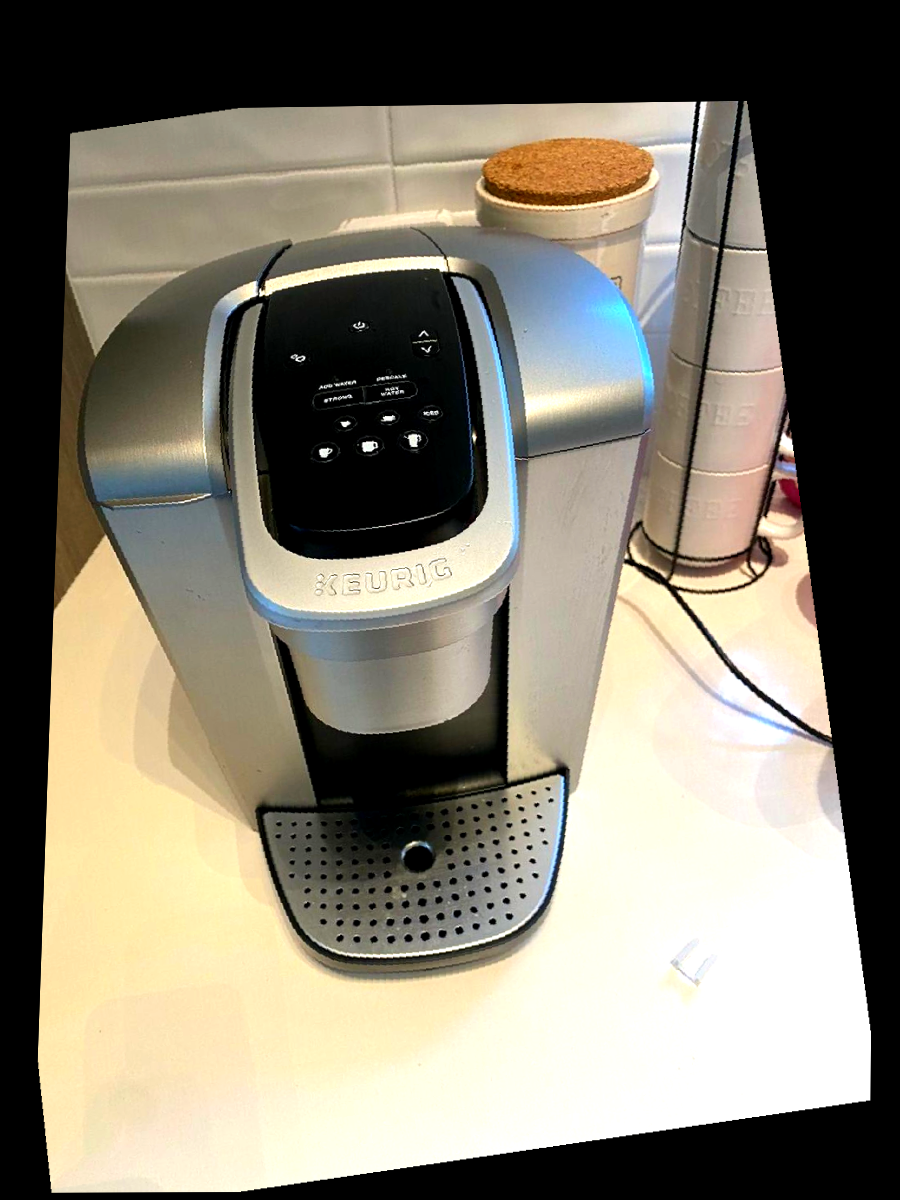10oz: (355, 435, 386, 458)
12oz: (397, 430, 428, 453)
4oz: (309, 386, 365, 413), (333, 414, 357, 433)
6oz: (375, 408, 400, 427)
8oz: (310, 440, 341, 464)
add_water: (306, 366, 362, 393)
descale: (360, 358, 415, 385)
hot: (362, 379, 418, 406)
iced: (419, 404, 444, 422)
power: (347, 317, 373, 335)
